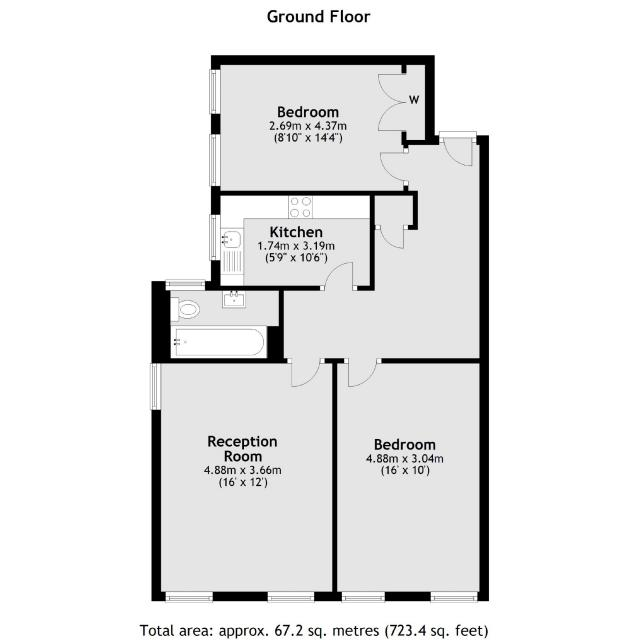DOOR: (438, 131, 477, 167), (379, 147, 409, 187), (343, 358, 382, 388), (286, 358, 326, 387), (319, 262, 358, 291)
ROOM: (150, 358, 338, 603), (332, 358, 489, 603), (209, 55, 409, 196), (209, 190, 375, 291)
WINDOW: (209, 134, 221, 187), (149, 363, 162, 411), (208, 214, 221, 262), (165, 591, 214, 603), (430, 591, 478, 603), (267, 591, 315, 603), (209, 69, 221, 115), (164, 278, 206, 291), (341, 591, 386, 603)
